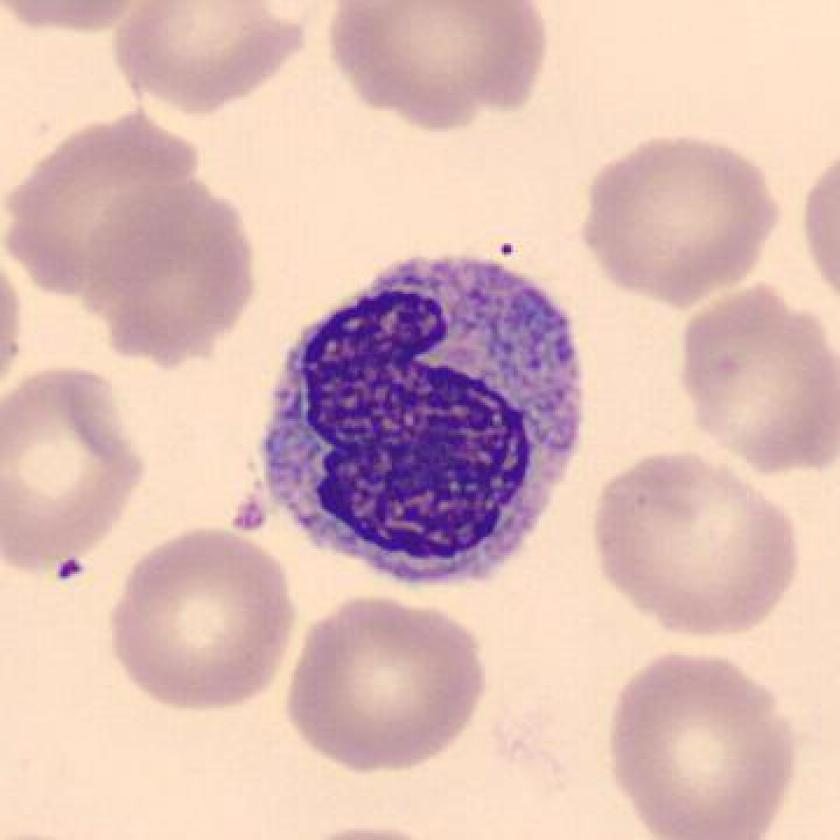monocyte: (242, 228, 606, 603)
